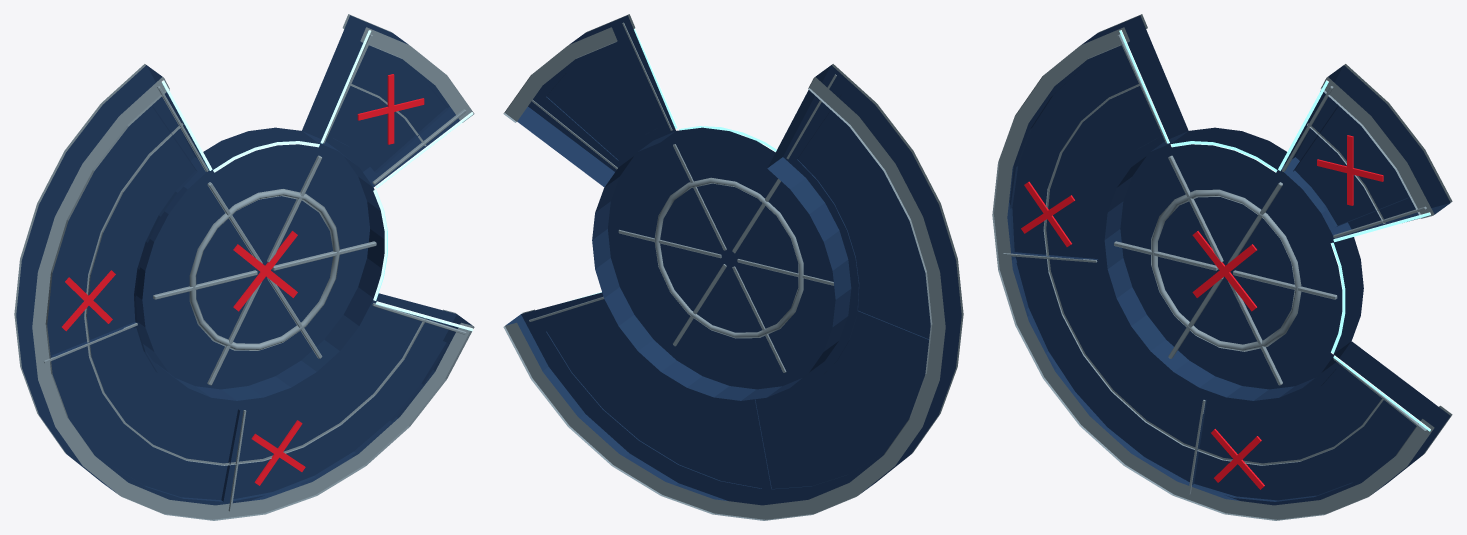
The model's file is foundry-panel-fun5-low.glb.
3 views of the same model, side by side, from view 1: azimuth 30°, elevation 25°; view 2: azimuth 150°, elevation 25°; view 3: azimuth 330°, elevation 25° (orthographic).
Parts seen in each view (by area): view 1: RENDER_PANEL_SHELL, RENDER_PANEL_FRAME, RENDER_PANEL_HAZARD, RENDER_PANEL_SIGNAL; view 2: RENDER_PANEL_SHELL, RENDER_PANEL_FRAME, RENDER_PANEL_SIGNAL; view 3: RENDER_PANEL_SHELL, RENDER_PANEL_FRAME, RENDER_PANEL_HAZARD, RENDER_PANEL_SIGNAL.
Part boxes in pixels (x1,y1,x2,y2): RENDER_PANEL_SHELL: (16, 15, 472, 505); RENDER_PANEL_FRAME: (14, 14, 474, 520); RENDER_PANEL_HAZARD: (62, 74, 424, 485); RENDER_PANEL_SIGNAL: (162, 30, 473, 331); RENDER_PANEL_SHELL: (505, 15, 961, 505); RENDER_PANEL_FRAME: (503, 14, 963, 520); RENDER_PANEL_SIGNAL: (564, 28, 776, 302); RENDER_PANEL_SHELL: (1007, 15, 1450, 505); RENDER_PANEL_FRAME: (992, 14, 1452, 520); RENDER_PANEL_HAZARD: (1021, 135, 1383, 489); RENDER_PANEL_SIGNAL: (1119, 30, 1430, 431).
Size of what is drawn, in the model's own units: 38.92 by 38.92 by 3.09.
